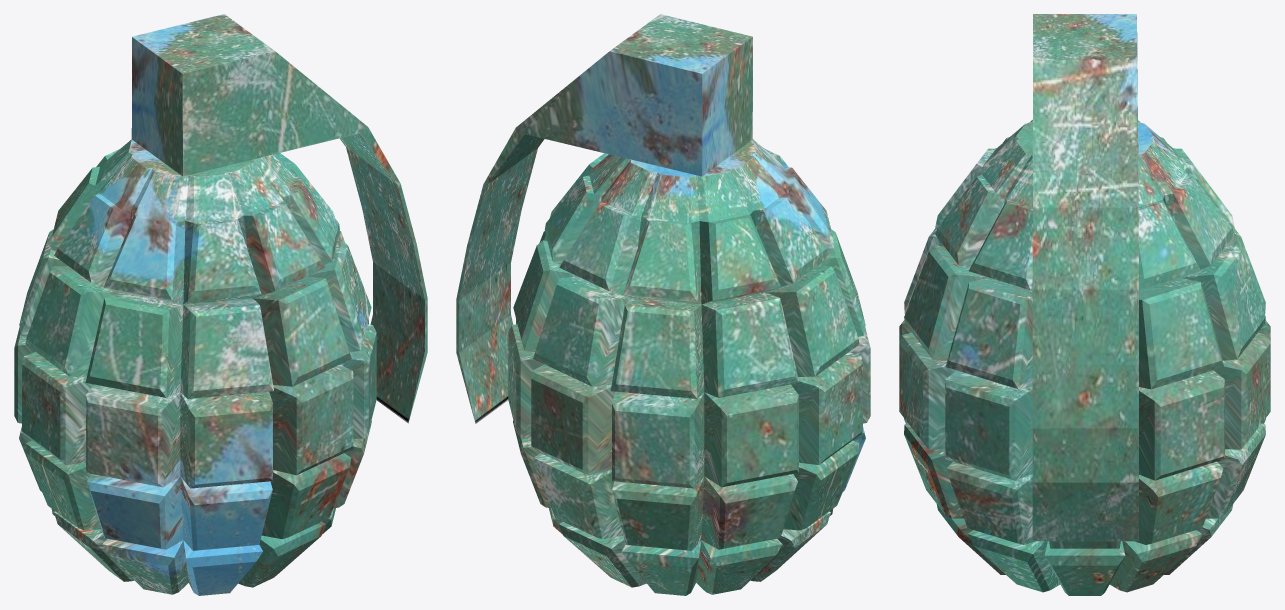
The picture shows the model from 3 angles, left to right: view 1: azimuth 30°, elevation 25°; view 2: azimuth 150°, elevation 25°; view 3: azimuth 270°, elevation 25°; orthographic projection. The views are drawn at different scales.
Parts seen in each view (by area): view 1: shoulei; view 2: shoulei; view 3: shoulei.
Part boxes in pixels (left/top/right/bottom): shoulei: left=14, top=14, right=427, bottom=595; shoulei: left=456, top=14, right=870, bottom=595; shoulei: left=899, top=14, right=1270, bottom=595.
Bounding box in the file's own units: 37.66 × 50.89 × 32.74.
1 material, 1 textured.
